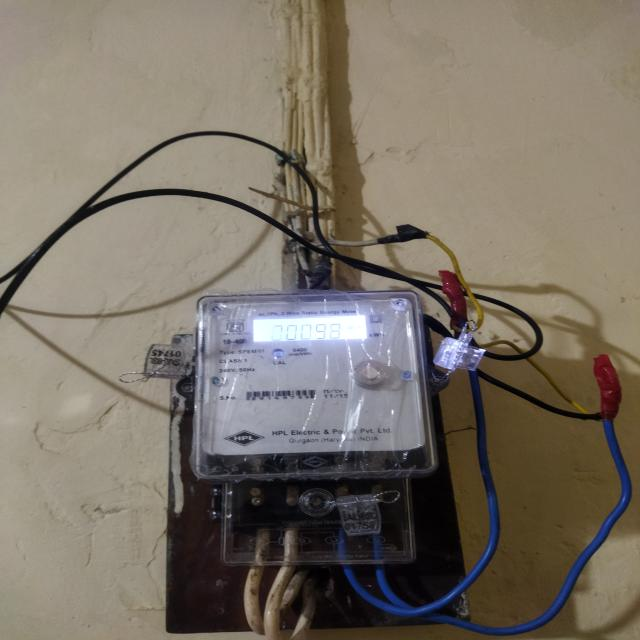display: (250, 317, 370, 343)
